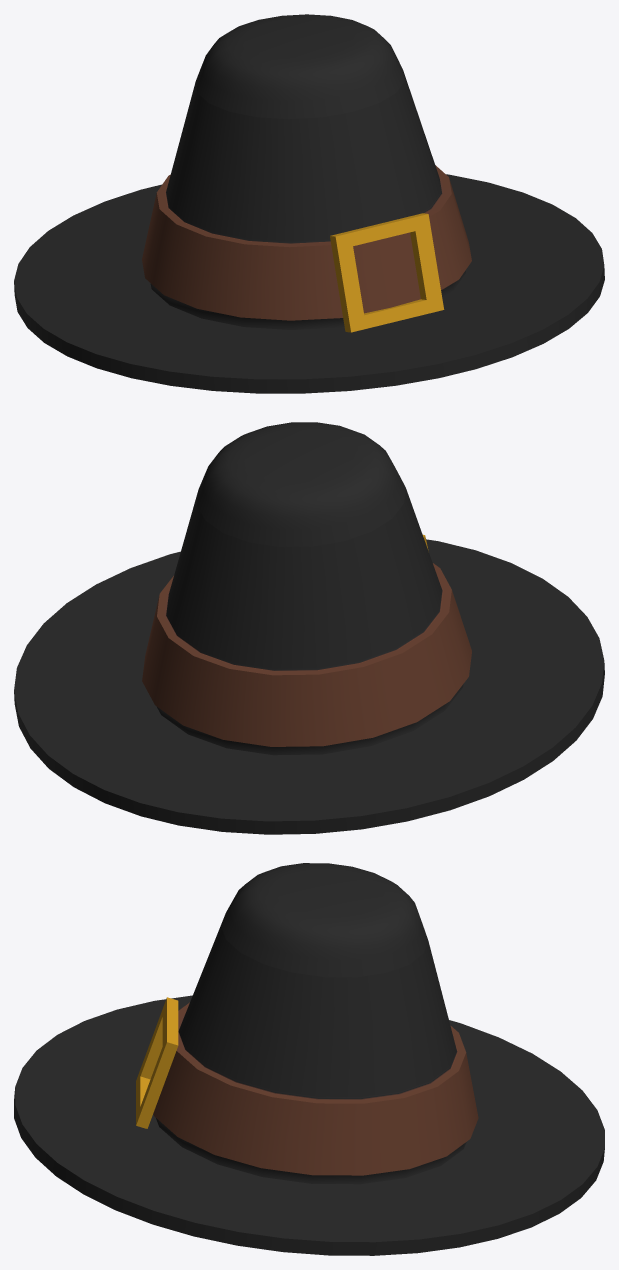
The model's file is 40朝圣者帽.fbx.
The picture shows the model from 3 angles, top to bottom: view 1: azimuth 30°, elevation 25°; view 2: azimuth 150°, elevation 25°; view 3: azimuth 270°, elevation 25°; orthographic projection.
Visible parts, largest first — view 1: 40朝圣者帽; view 2: 40朝圣者帽; view 3: 40朝圣者帽.
Part boxes in pixels (x1,y1,x2,y2): 40朝圣者帽: [14, 14, 604, 393]; 40朝圣者帽: [14, 422, 604, 834]; 40朝圣者帽: [14, 863, 604, 1255].
Size of the model in its own units: 0.7066 by 0.3544 by 0.7179.
